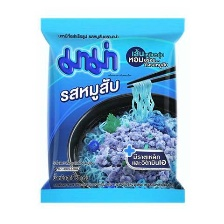snack: (31, 9, 191, 208)
